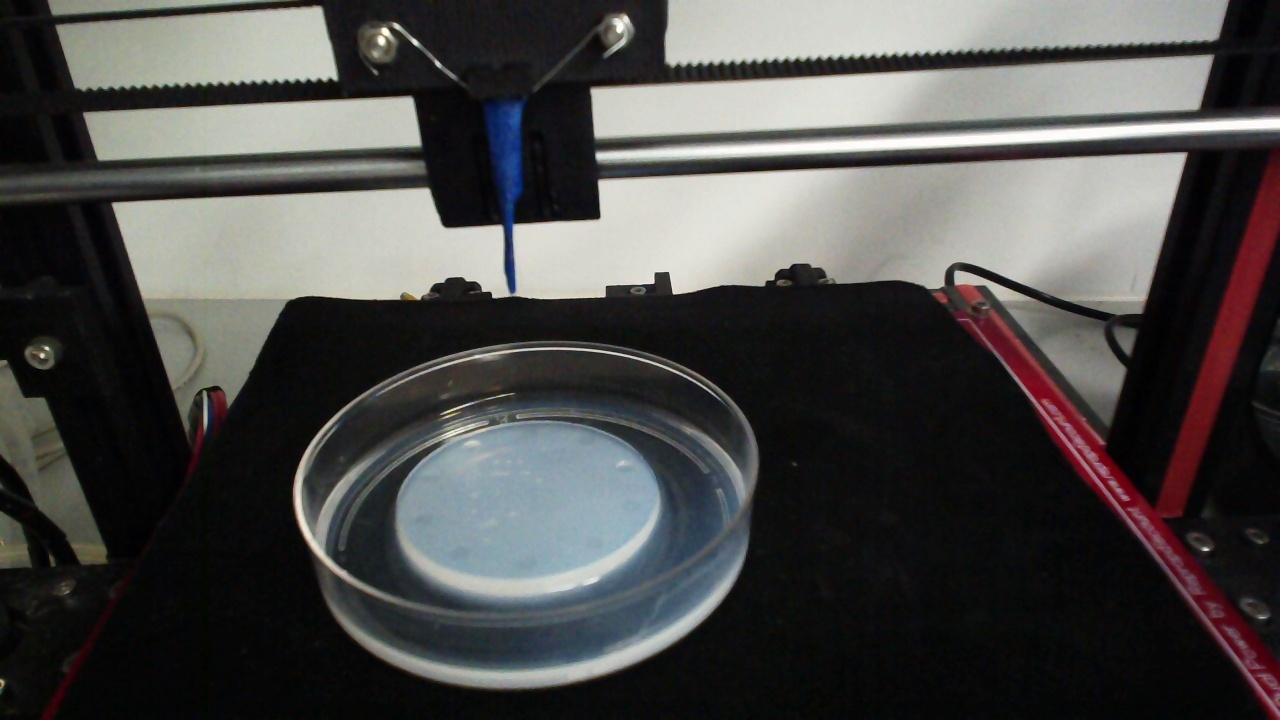groove: (508, 554, 537, 572), (445, 544, 471, 563), (579, 534, 605, 552), (409, 510, 438, 526), (418, 470, 443, 486), (574, 432, 596, 448), (613, 461, 638, 475), (619, 499, 642, 514), (460, 439, 483, 453), (519, 426, 540, 438)
needle: (486, 97, 523, 295)
